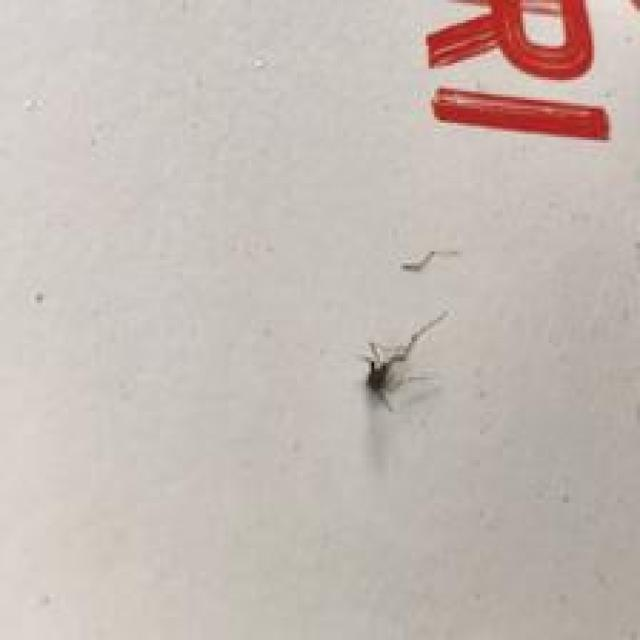Aedes albopictus: (357, 308, 449, 412)
